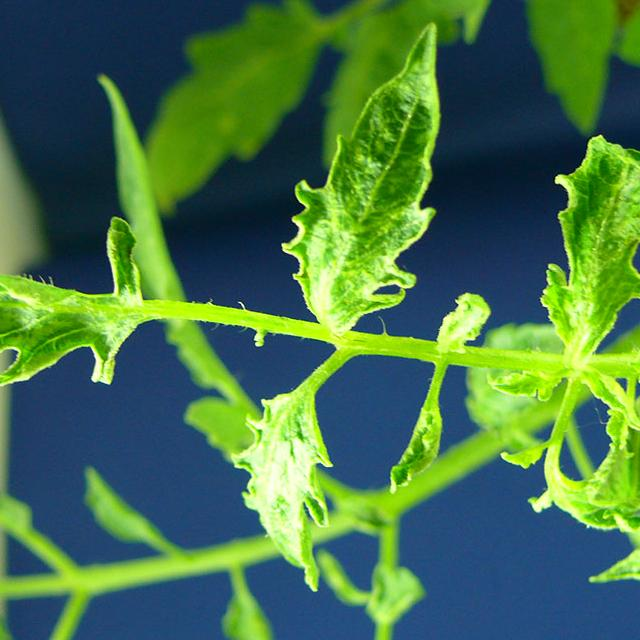Tomato leaf mosaic virus: (265, 14, 473, 336), (506, 117, 640, 360), (0, 226, 172, 383), (223, 381, 344, 601)
